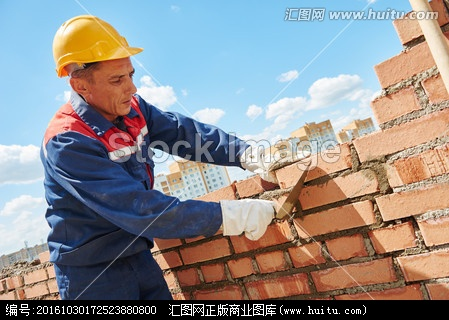yellow: (49, 17, 136, 119)
